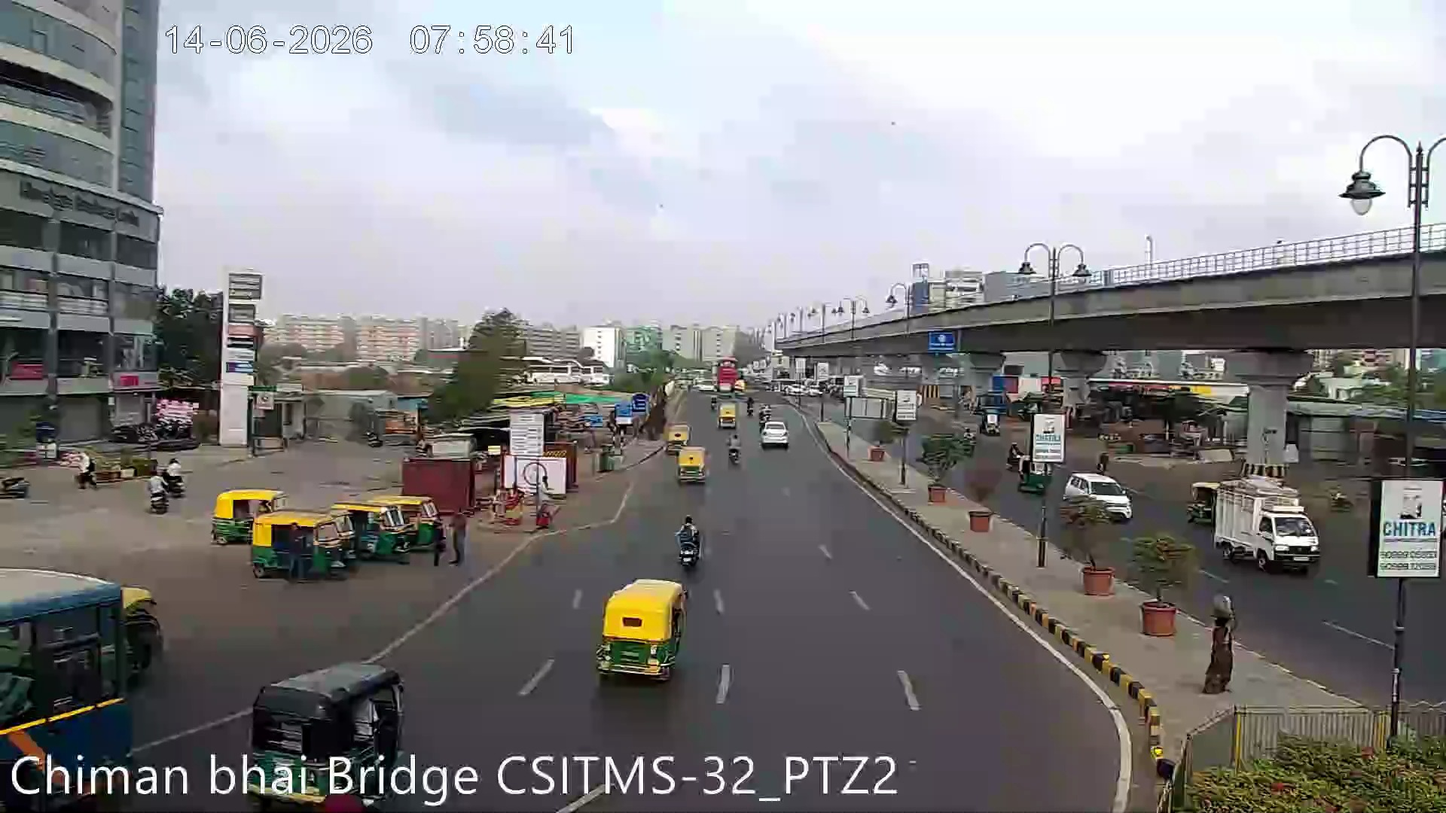auto_rickshaw: (243, 655, 415, 763), (599, 576, 688, 677), (247, 505, 353, 580), (338, 489, 443, 559), (209, 483, 285, 544), (675, 444, 709, 484), (1015, 458, 1051, 494), (666, 420, 692, 447), (716, 400, 738, 429)
bus: (0, 556, 162, 787)
car: (1061, 468, 1135, 523), (760, 413, 790, 449)
pedestrian: (1199, 610, 1240, 697), (442, 514, 469, 567), (74, 447, 98, 492)
truck: (1214, 482, 1322, 568)
two_wheeler: (673, 509, 706, 570), (144, 467, 172, 517), (725, 434, 744, 471)
